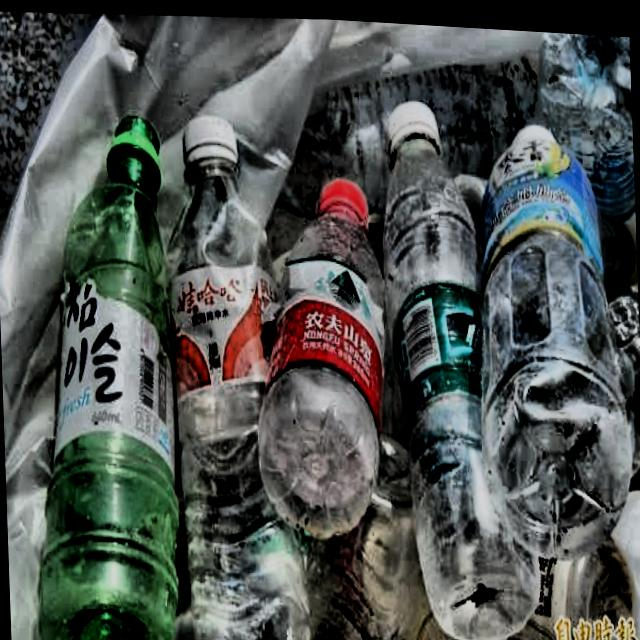Bottles: (15, 88, 189, 640), (369, 82, 541, 640), (156, 78, 307, 640), (470, 92, 628, 553), (254, 143, 398, 540)
